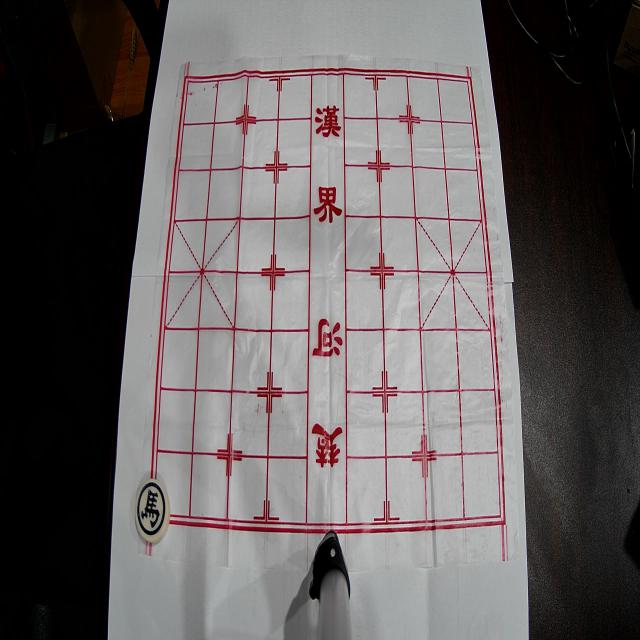black-horse: (135, 478, 170, 542)
